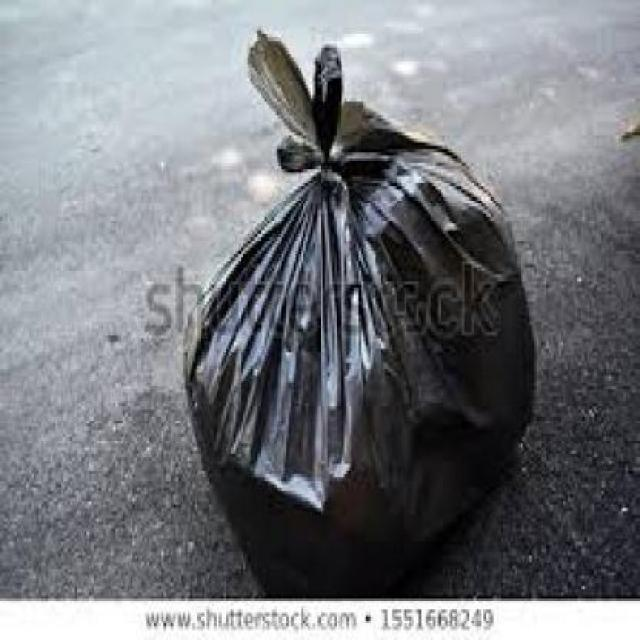garbage: (171, 17, 540, 613)
